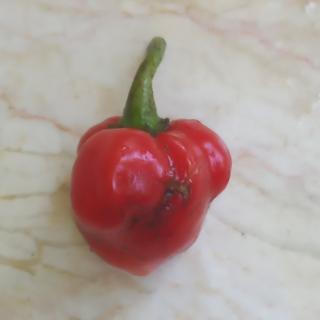Defect: (152, 162, 194, 226)
